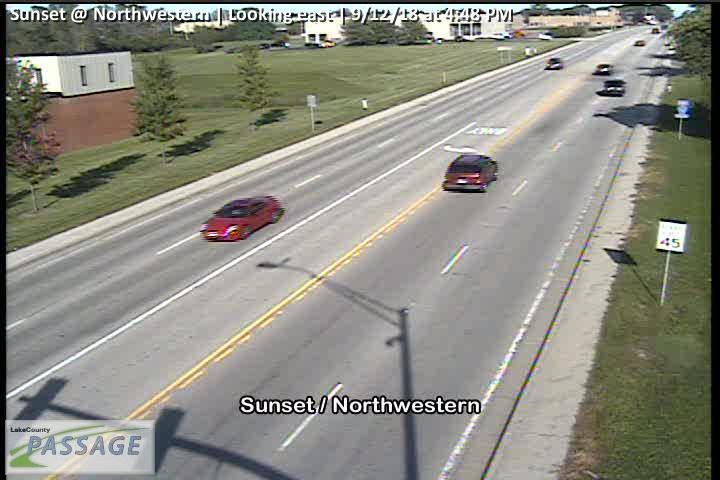Sedan: (201, 194, 286, 241), (441, 152, 500, 194), (603, 78, 627, 96), (546, 56, 564, 69), (593, 63, 612, 74)
